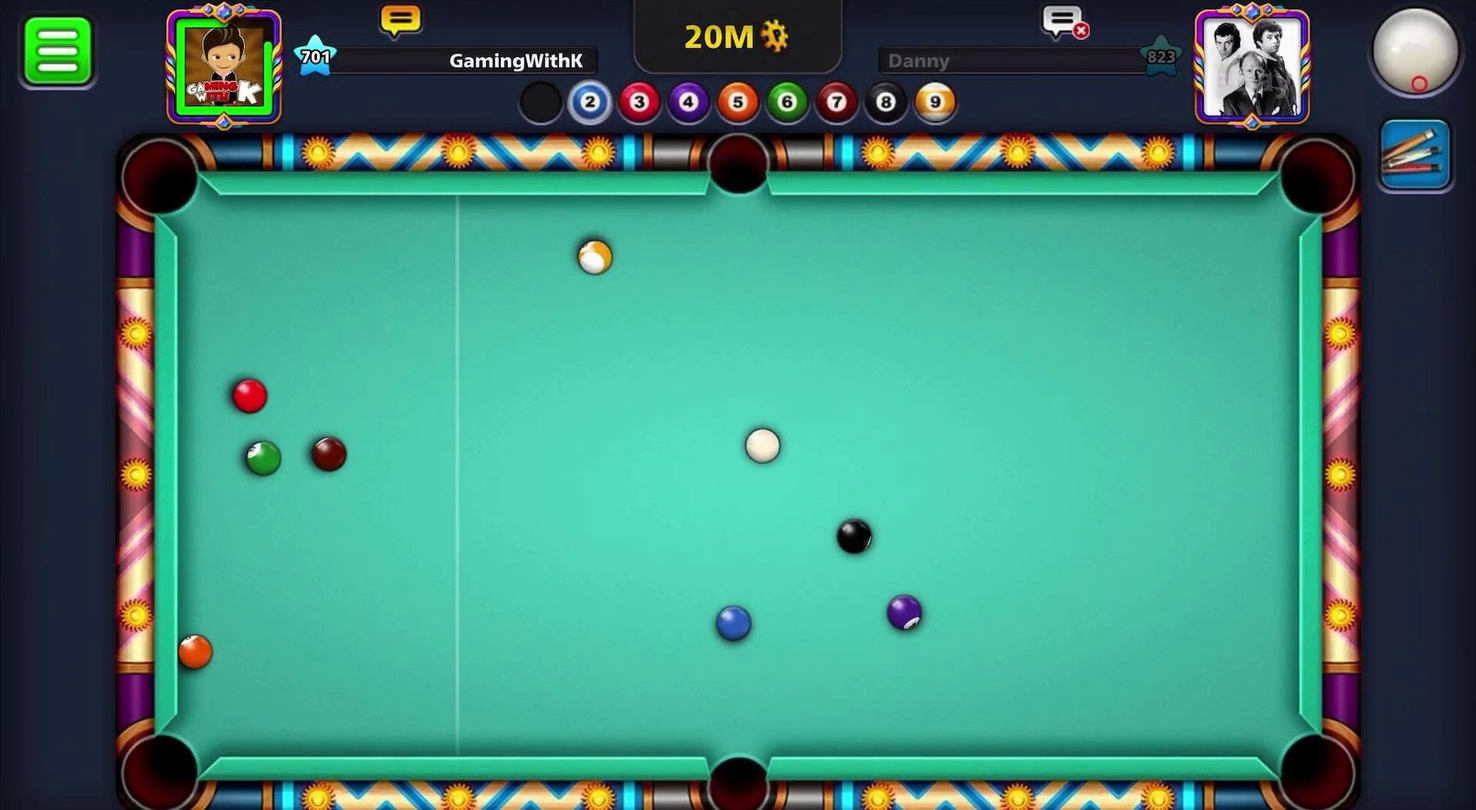Ball: (828, 511, 882, 561), (568, 234, 617, 284), (708, 603, 758, 650), (880, 591, 929, 637), (229, 370, 271, 416), (175, 629, 216, 672), (305, 433, 348, 473), (242, 437, 284, 477)
Hole: (109, 713, 216, 809), (111, 130, 208, 231), (1267, 132, 1365, 231), (1265, 717, 1364, 809), (698, 123, 783, 207), (686, 738, 785, 809)
Play_Area: (177, 191, 1297, 762)
Spin: (1342, 0, 1475, 118)
White: (738, 421, 785, 465)
